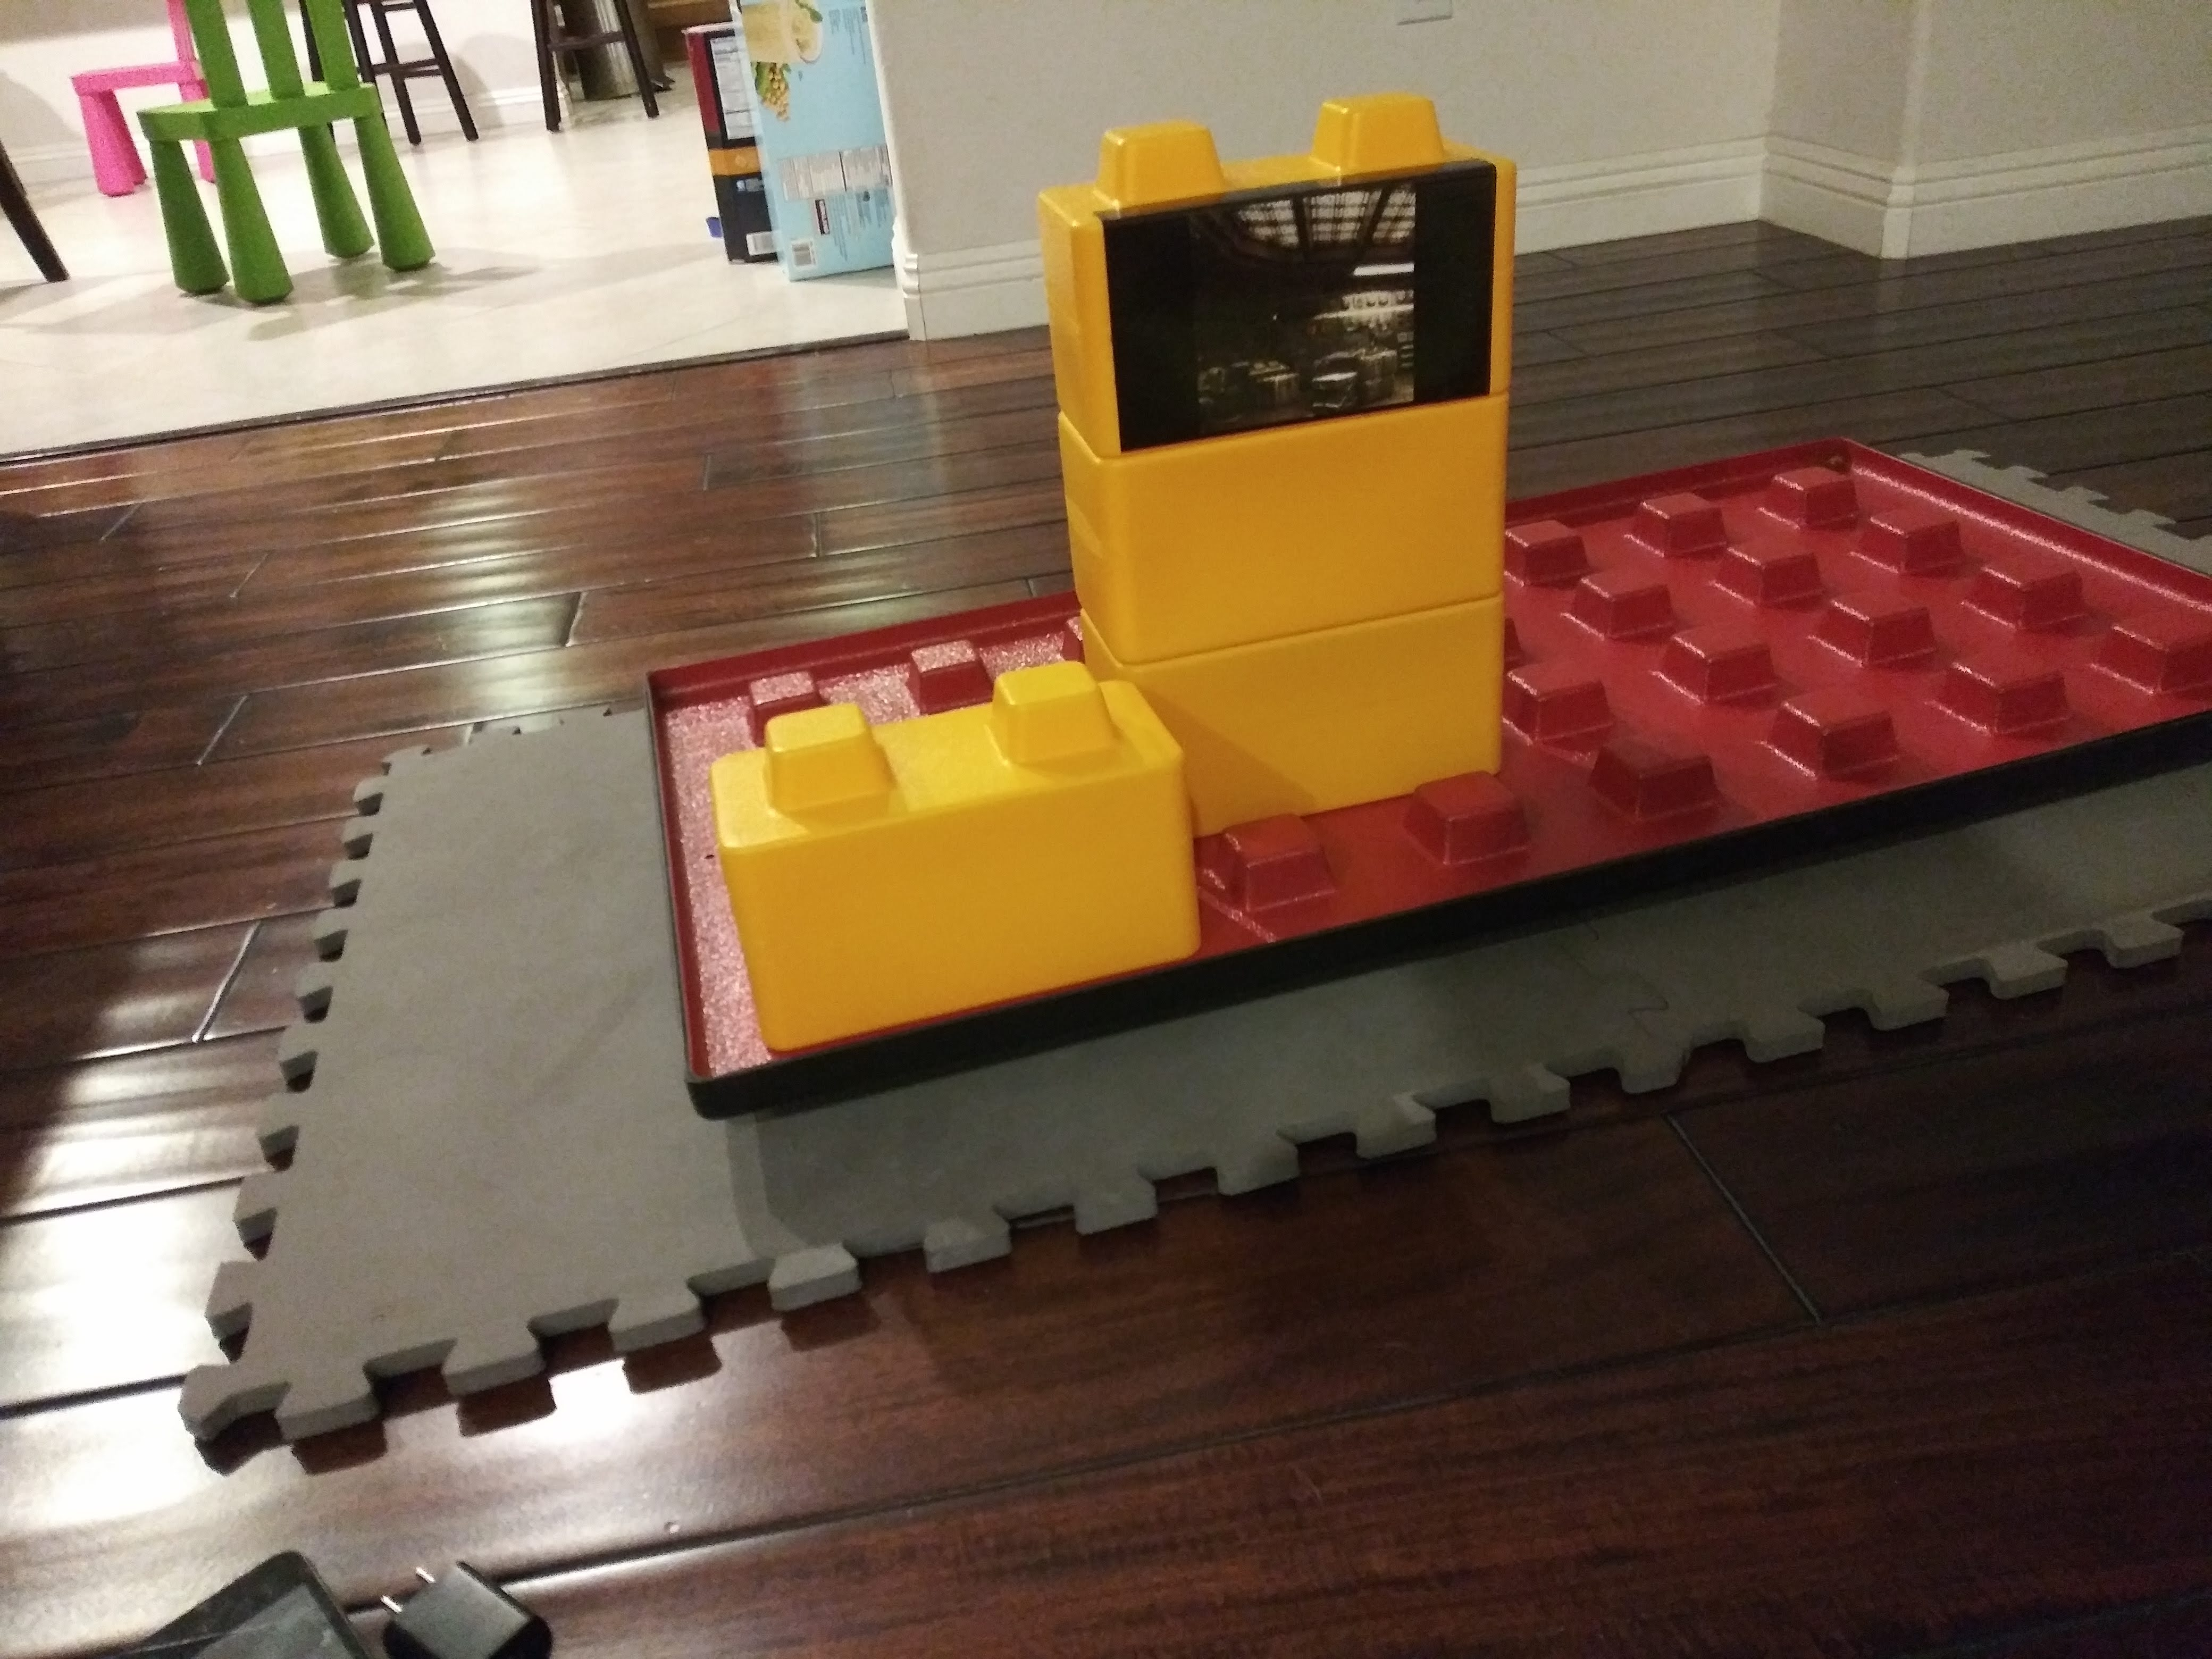red foundation: (637, 443, 2168, 974)
